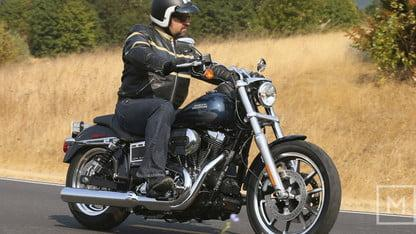helmet: (145, 0, 207, 33)
